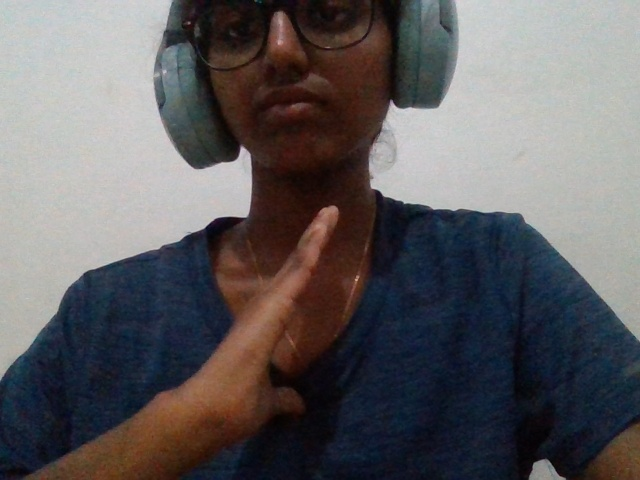Fine: (139, 176, 421, 467)
